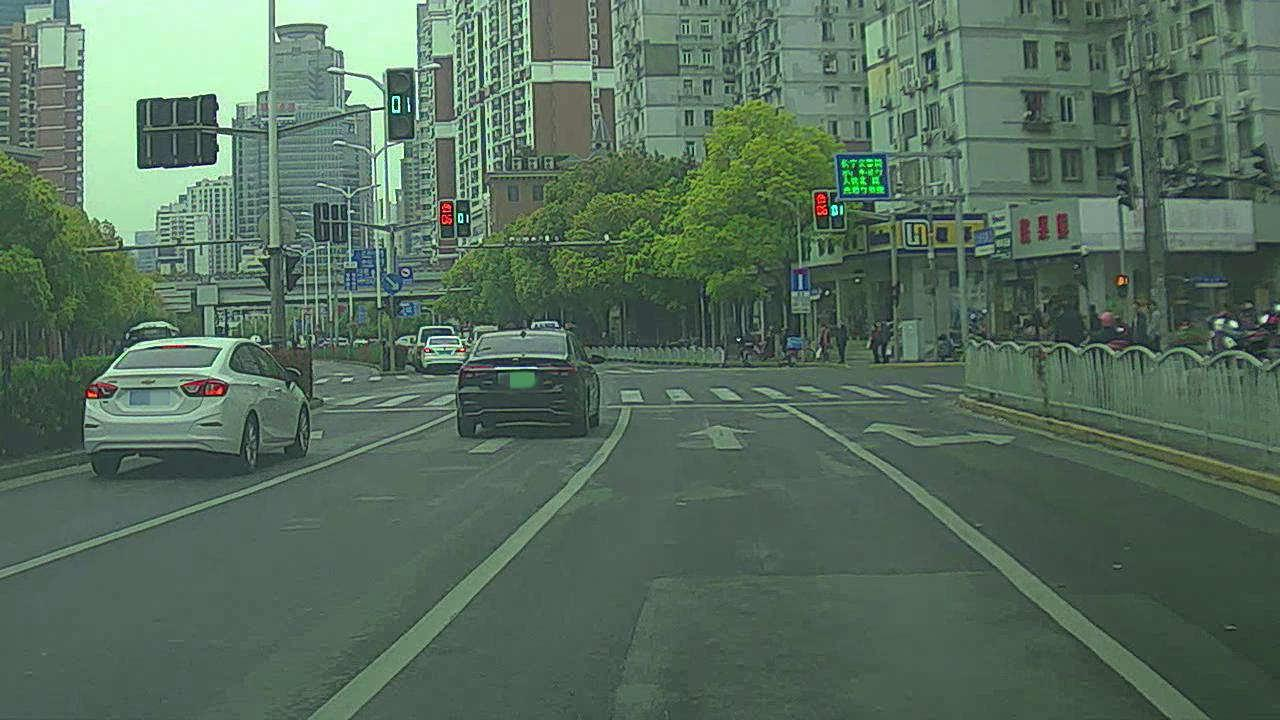traffic_light: (441, 199, 458, 240), (814, 189, 830, 230), (456, 198, 473, 236), (831, 192, 846, 229)
